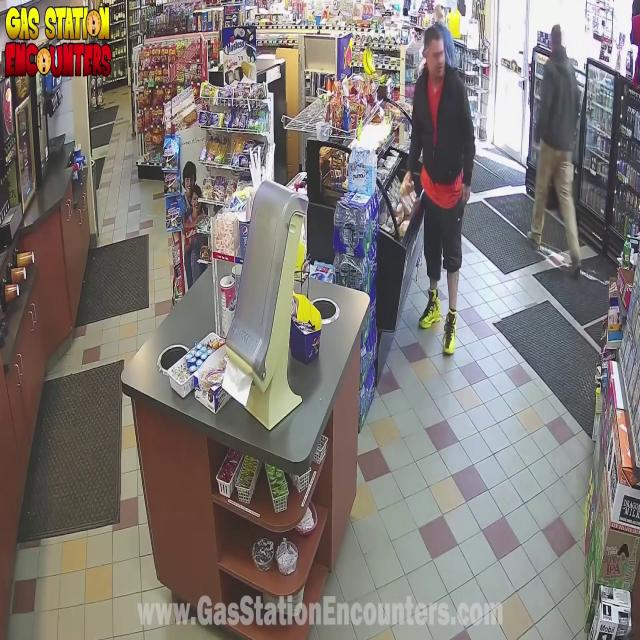Product: (398, 172, 420, 207)
normal: (509, 0, 601, 284), (429, 0, 455, 47), (532, 340, 532, 342)
shoplifting: (392, 19, 486, 372)
